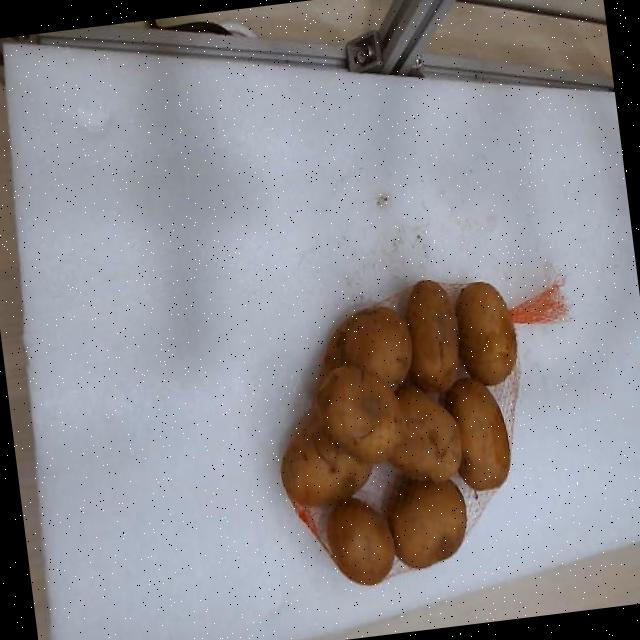potato: (280, 409, 371, 505), (314, 365, 400, 462), (443, 379, 509, 489), (323, 308, 411, 388), (387, 479, 465, 567), (390, 386, 460, 479), (454, 282, 514, 384), (326, 498, 392, 584), (406, 282, 456, 391)
